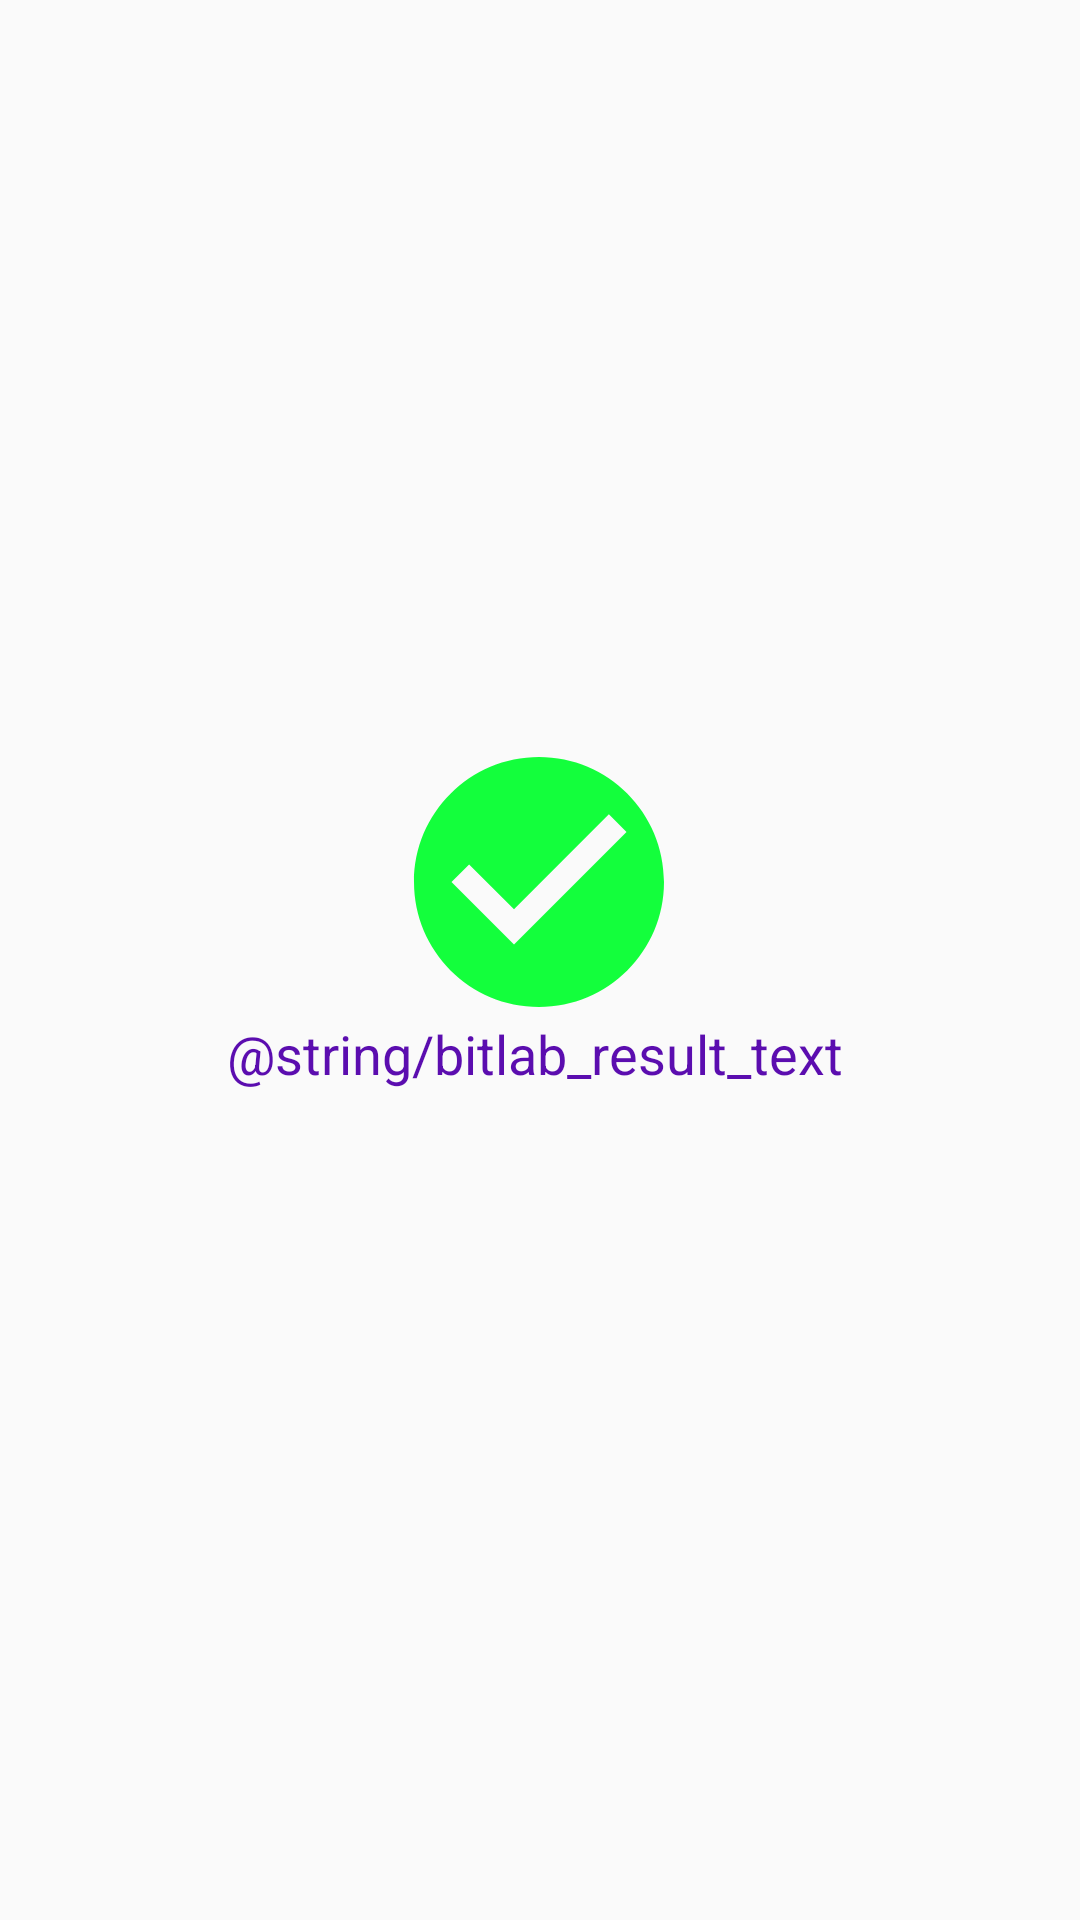

Icons on this 1080*1920 Android screen, each with the point to tap as [x,y]:
check circle: [539,882]
